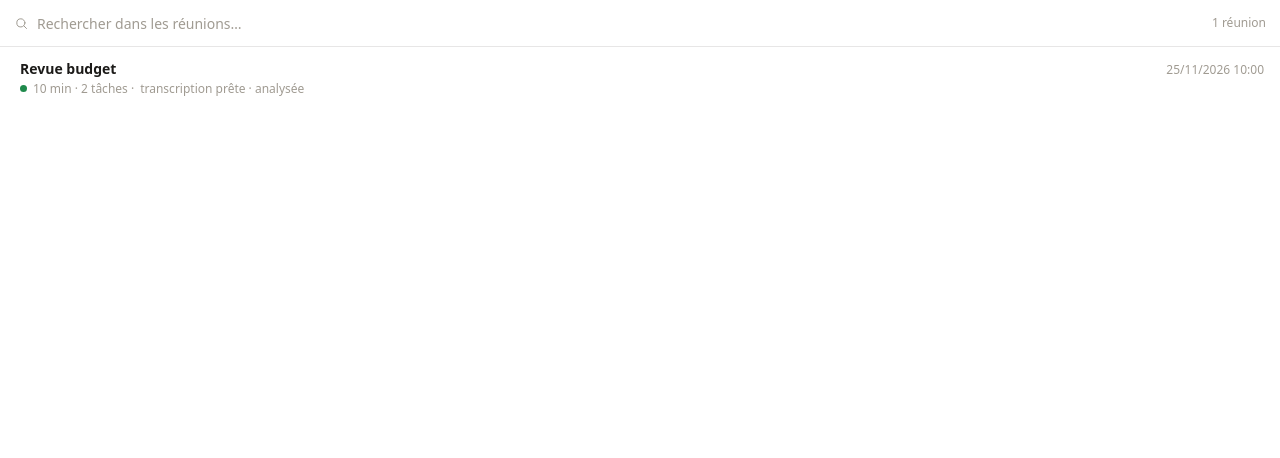
analysis in the meeting detail › shows summary, decisions, open questions and token usage; Ré-analyser forces
The image size is (1280, 458).
Later steps or results of the test are not shown.
Click the text "Revue budget". click: (68, 68)
box: x1=20 y1=59 x2=116 y2=78
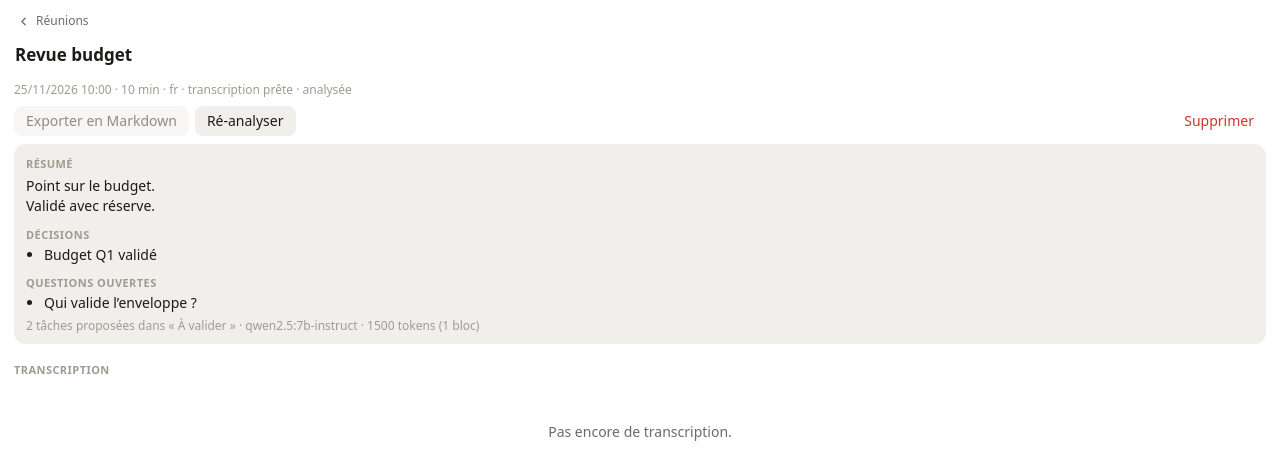
Expected: the text "Point sur le budget. Validé avec réserve." is shown, x1=26 y1=176 x2=155 y2=215
Expected: the list item "Budget Q1 validé" is shown, x1=44 y1=244 x2=157 y2=264
Expected: the list item "Qui valide l’enveloppe ?" is shown, x1=44 y1=293 x2=197 y2=312
